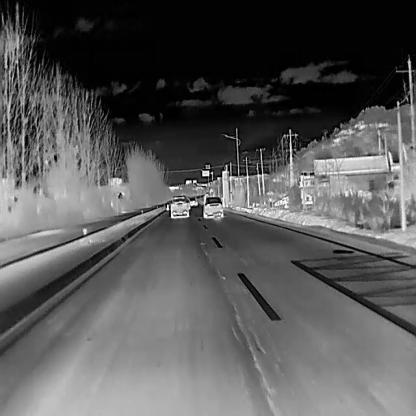car: (170, 194, 189, 219), (203, 196, 223, 218), (273, 196, 290, 206), (187, 195, 198, 206)
